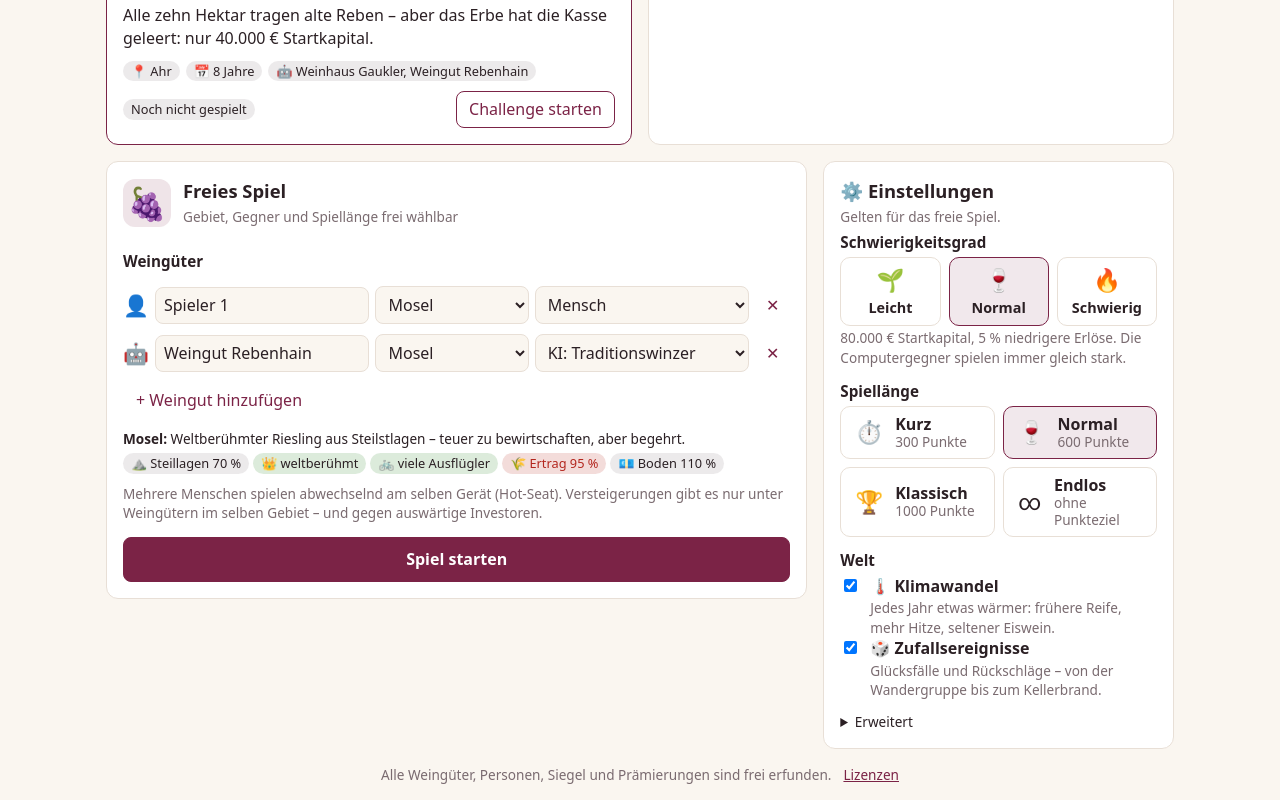
it: Bedienung › warnt, wenn der Browser nicht speichern kann
The image size is (1280, 800).
(page scrolled)
Click the button "Spiel starten": coordinates (457, 560) [123,537,790,582]
(page scrolled)
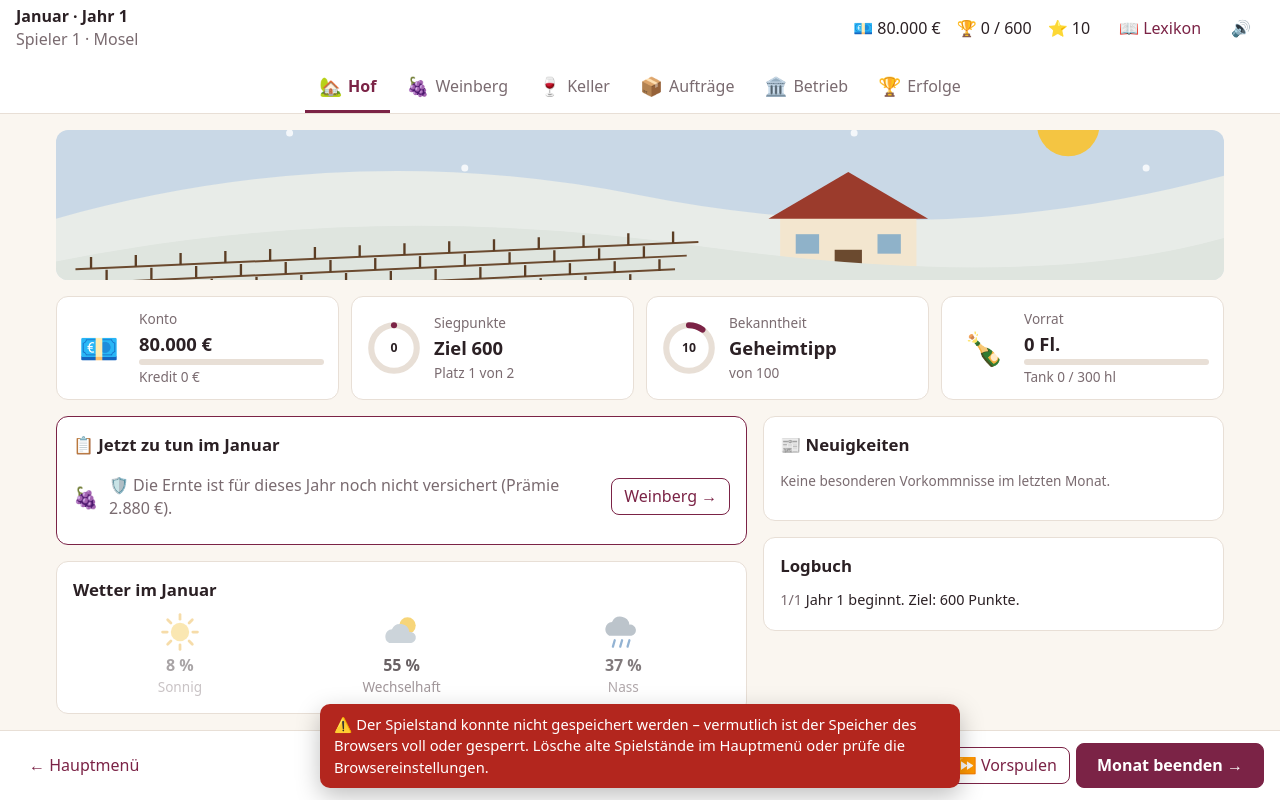
Expected: the message with class "save-failed" shows "nicht gespeichert", [334,714,917,777]
Click the button "Monat beenden →": coordinates (1170, 765) [1076,743,1264,788]
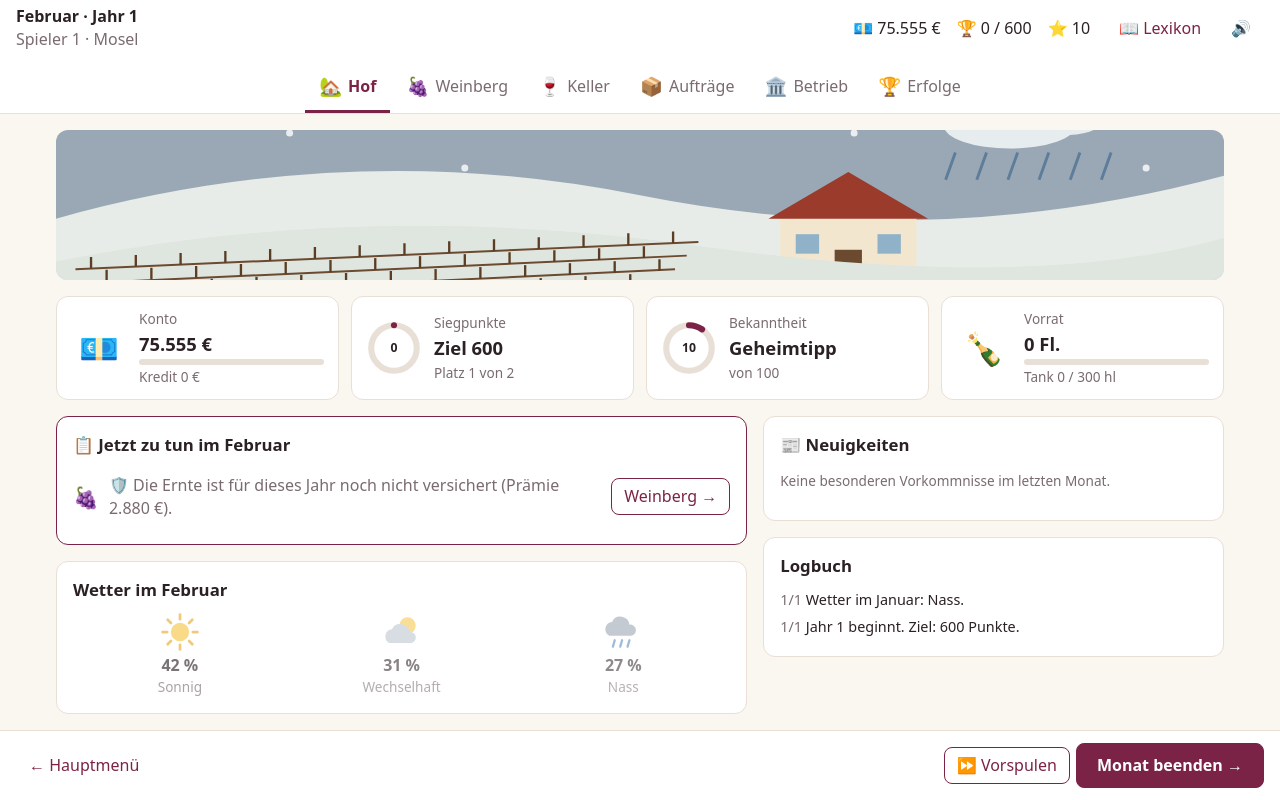
Expected: the message with class "save-failed" is gone
